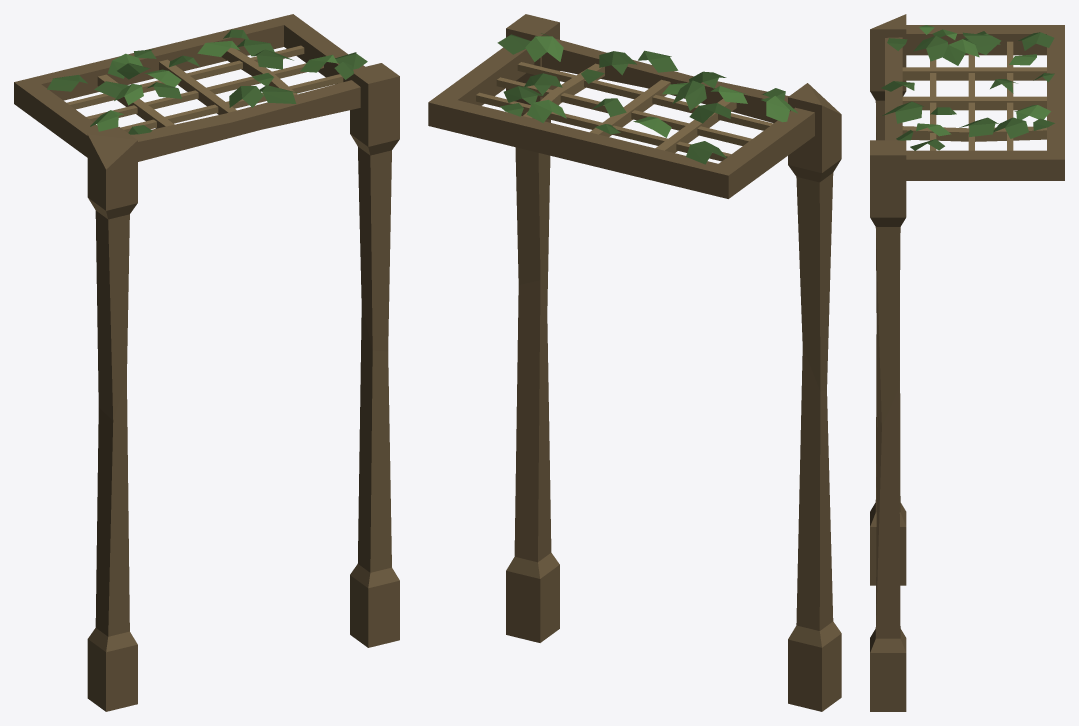
Rendered from SM_Bld_Cuba_Sunshade_02.glb.
3 views of the same model, side by side, from view 1: azimuth 30°, elevation 25°; view 2: azimuth 150°, elevation 25°; view 3: azimuth 270°, elevation 25° (orthographic). The views are drawn at different scales.
Visible parts, largest first — view 1: SM_Bld_Cuba_Sunshade_02; view 2: SM_Bld_Cuba_Sunshade_02; view 3: SM_Bld_Cuba_Sunshade_02.
Part boxes in pixels (x1=…): SM_Bld_Cuba_Sunshade_02: x1=14, y1=14, x2=399, y2=711; SM_Bld_Cuba_Sunshade_02: x1=428, y1=14, x2=841, y2=711; SM_Bld_Cuba_Sunshade_02: x1=870, y1=14, x2=1064, y2=711.
Size of the model in its own units: 0.0189 by 0.036 by 0.011.
